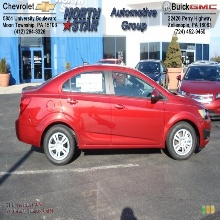no damage: (14, 63, 209, 162), (178, 61, 220, 118)
